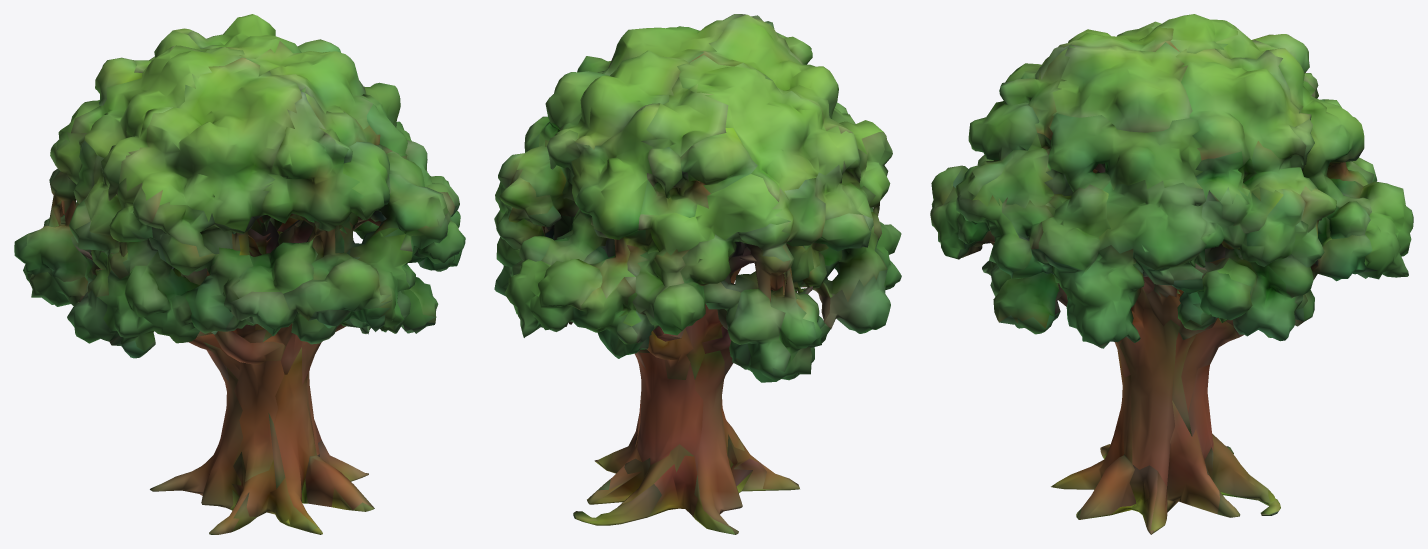
File: oak.glb
3 views of the same model, side by side, from view 1: azimuth 30°, elevation 25°; view 2: azimuth 150°, elevation 25°; view 3: azimuth 270°, elevation 25° (orthographic).
Size of the model in its own units: 1.7 by 2 by 1.99.
Materials: 1 (1 with a texture image).
